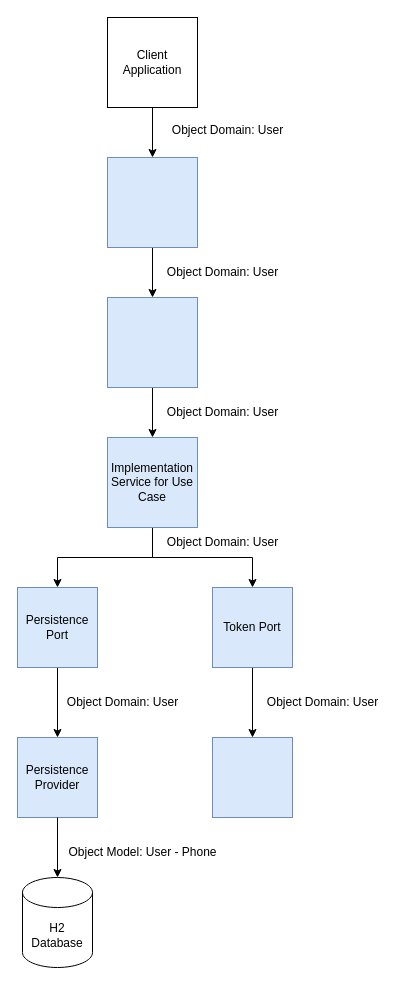
Image size: 405x985. Some labels were removed from this diagram. The shapes that lost their labels are listed below. From the top down, each one's centre as x and y in pixels, then its label:
At pixel 152 202: "Rest Controller".
At pixel 152 342: "User Use Case".
At pixel 252 777: "Jtw Provider".
